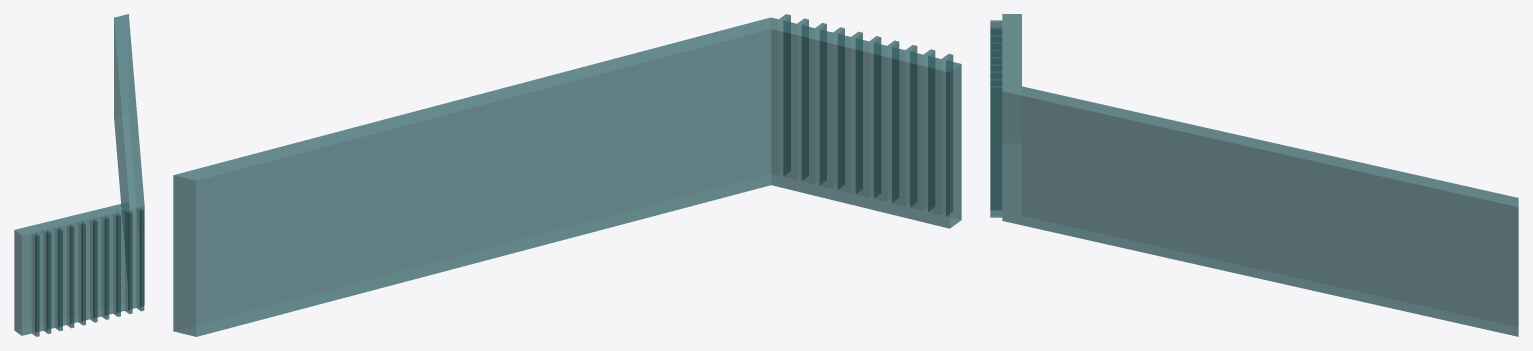
3 views of the same model, side by side, from view 1: azimuth 30°, elevation 25°; view 2: azimuth 150°, elevation 25°; view 3: azimuth 270°, elevation 25° (orthographic). The views are drawn at different scales.
Parts seen in each view (by area): view 1: B-FF-BALUSTRADE-73bd27c03eba; view 2: B-FF-BALUSTRADE-73bd27c03eba; view 3: B-FF-BALUSTRADE-73bd27c03eba.
Part boxes in pixels (box(x1,y1,x2,y2)): B-FF-BALUSTRADE-73bd27c03eba: box(14, 14, 144, 336); B-FF-BALUSTRADE-73bd27c03eba: box(173, 14, 961, 336); B-FF-BALUSTRADE-73bd27c03eba: box(990, 14, 1518, 336).
Bounding box in the file's own units: 3.04 × 0.95 × 3.51.
